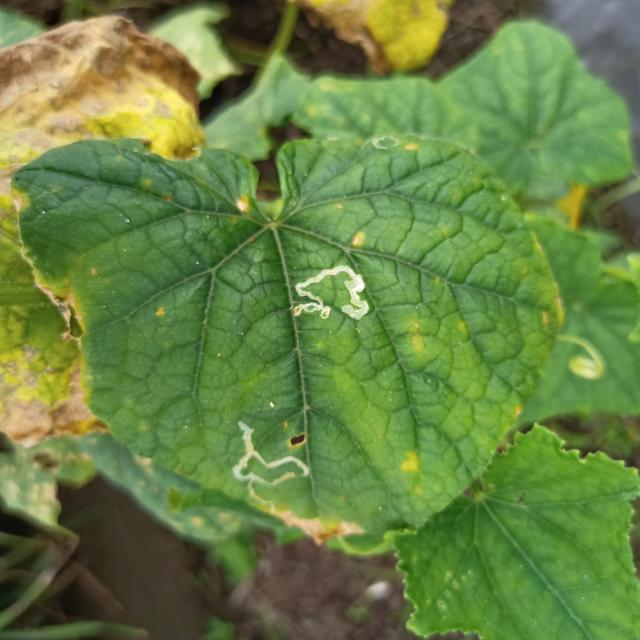disease_cucumber: (400, 448, 426, 500), (538, 294, 569, 332), (405, 318, 426, 356), (232, 193, 251, 216), (348, 230, 364, 248), (404, 141, 421, 156), (152, 305, 167, 319)
